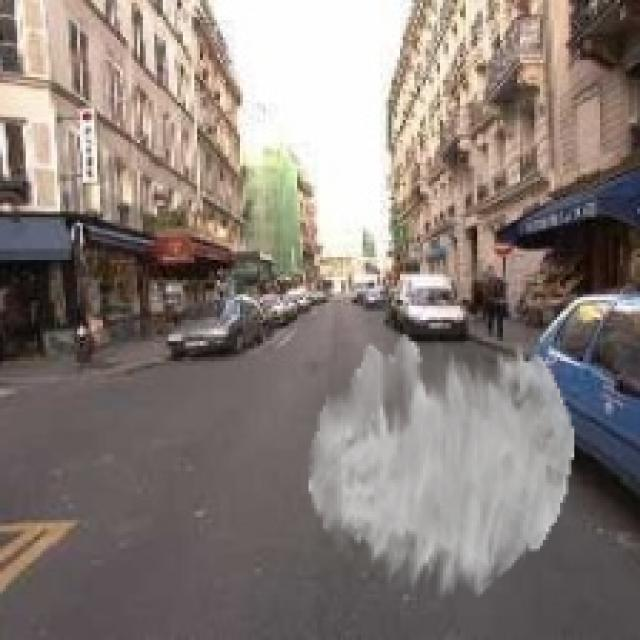Smoke: (308, 334, 574, 600)
